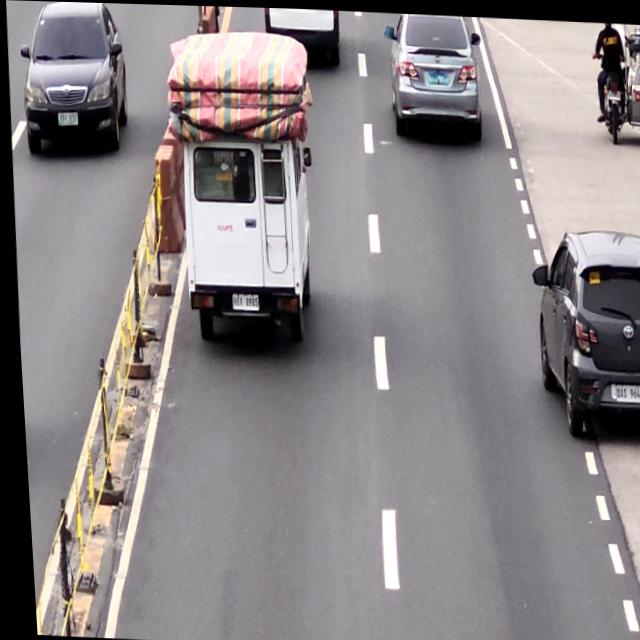Car: (531, 229, 640, 439), (389, 11, 482, 133)
License-Plate: (609, 379, 640, 402), (226, 290, 255, 312), (426, 67, 449, 82)
Tricycle: (593, 18, 640, 129)
